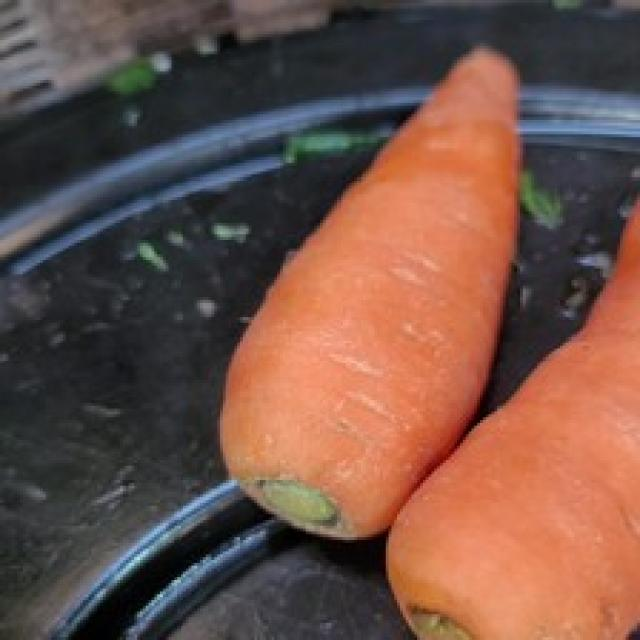carrot: (218, 47, 512, 536), (385, 182, 640, 637)
